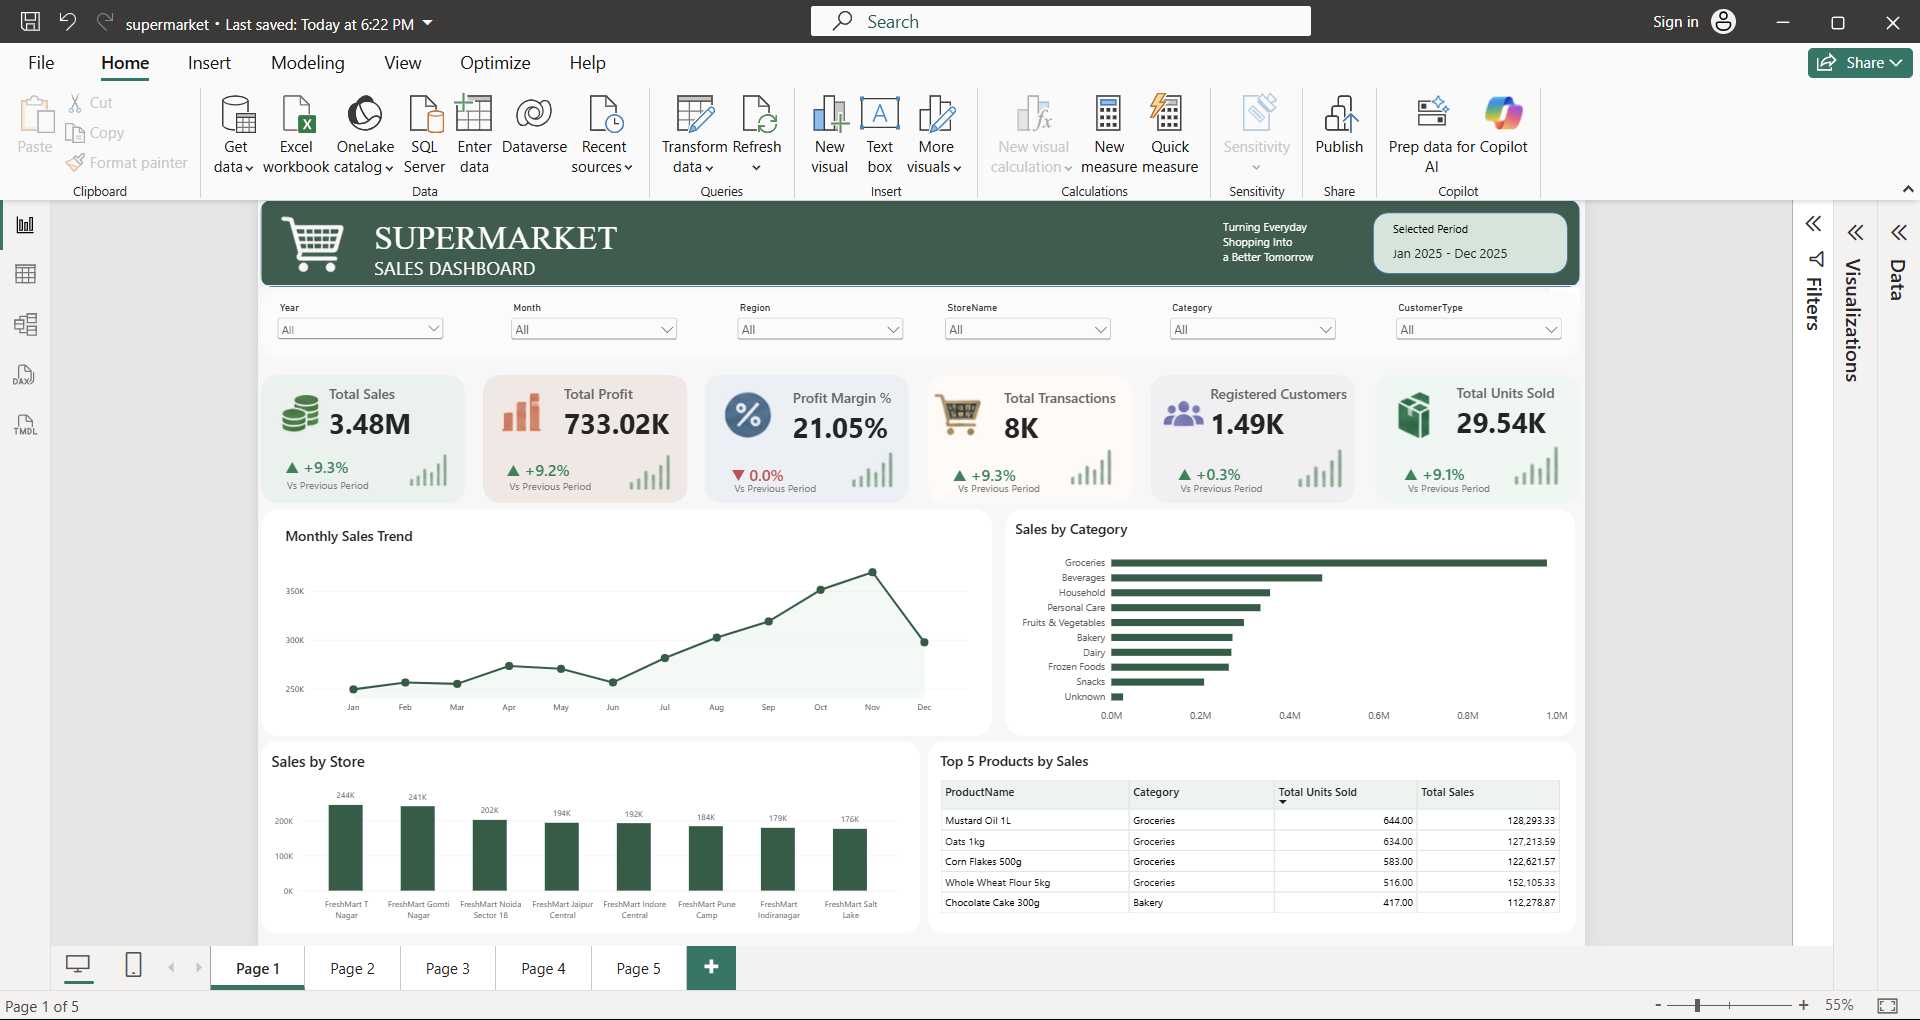

Layout of this report page (visuals, bound fields, positions):
{"tool":"powerbi","page":{"name":"Page 1","canvas":[1920,1080],"ordinal":0},"visuals":[{"type":"shape","box":[4.1,0,1910.1,125.6],"z":0},{"type":"image","box":[22.6,2.1,111.1,125.6],"z":1000},{"type":"textbox","box":[168.8,26.8,885.1,146.1],"z":2000},{"type":"textbox","box":[168.8,80.3,1745.5,92.6],"z":3000},{"type":"textbox","box":[1397.6,26.8,516.6,74.1],"z":4000},{"type":"shape","box":[1613.7,18.5,282,88.5],"z":5000},{"type":"textbox","box":[1642.5,31,271.7,166.7],"z":6000},{"type":"textbox","box":[1642.5,63.8,271.7,37],"z":7000},{"type":"shape","box":[4.1,133,1910.1,94.7],"z":8000},{"type":"slicer","fields":{"Values":["DateTable.Year"]},"box":[22.6,146.1,250,82.3],"z":9000},{"type":"slicer","fields":{"Values":["DateTable.Month"]},"box":[362.3,146.1,250,82.3],"z":10000},{"type":"slicer","fields":{"Values":["stores.Region"]},"box":[689.5,146.1,250,82],"z":11000},{"type":"slicer","fields":{"Values":["stores.StoreName"]},"box":[990.1,146.1,250,82],"z":12000},{"type":"slicer","fields":{"Values":["vw_products_clean.Category"]},"box":[1315.3,146.1,250,82],"z":13000},{"type":"slicer","fields":{"Values":["vw_customers_clean.CustomerType"]},"box":[1642.5,146.1,249.1,61.7],"z":14000},{"type":"shape","box":[4.1,253.2,296.4,185.2],"z":15000},{"type":"shape","box":[326,253.2,296.4,185.2],"z":16000},{"type":"shape","box":[646,253.2,296.4,185.2],"z":17000},{"type":"shape","box":[1292.6,253.2,296.4,185.2],"z":18000},{"type":"shape","box":[970,253.2,296.4,185.2],"z":19000},{"type":"shape","box":[1618,253.2,296,185.2],"z":20000},{"type":"cardVisual","fields":{"Data":["All_Measures.Total Sales"]},"box":[86.4,228.5,201.7,162.6],"z":21000},{"type":"image","box":[0,273.8,123.5,72],"z":22000},{"type":"image","box":[168.8,358.1,156.4,65.9],"z":23000},{"type":"cardVisual","fields":{"Data":["All_Measures.Total Sales Growth Label"]},"box":[22.6,335.5,164.7,102.9],"z":24000},{"type":"textbox","box":[41,401,164.7,79],"z":25000},{"type":"cardVisual","fields":{"Data":["All_Measures.Total Profit"]},"box":[427,228.5,201.7,162.6],"z":26000},{"type":"image","box":[321.1,273.8,123,72],"z":27000},{"type":"image","box":[526.9,358.1,82.3,72],"z":28000},{"type":"cardVisual","fields":{"Data":["All_Measures.Profit Growth Label"]},"box":[343.7,374.6,162.6,32.9],"z":29000},{"type":"textbox","box":[364,404,144.1,30.9],"z":30000},{"type":"cardVisual","fields":{"Data":["All_Measures.Profit Margin %"]},"box":[757.5,232.6,201.7,162.6],"z":31000},{"type":"image","box":[627.8,269.6,164,82],"z":32000},{"type":"cardVisual","fields":{"Data":["All_Measures.Profit Margin Change Label"]},"box":[669,358.1,146.1,76.2],"z":33000},{"type":"textbox","box":[689.5,407.5,144.1,22.6],"z":34000},{"type":"image","box":[848,354,82.3,72],"z":35000},{"type":"cardVisual","fields":{"Data":["All_Measures.Total Transactions"]},"box":[1064.2,232.6,201.7,162.6],"z":36000},{"type":"image","box":[930.4,269.6,164,82],"z":37000},{"type":"image","box":[1165,352,82.3,72],"z":38000},{"type":"cardVisual","fields":{"Data":["All_Measures.Transactions Growth Label"]},"box":[990.1,358.1,146,76],"z":39000},{"type":"textbox","box":[1012.7,407.5,137.9,30.9],"z":40000},{"type":"cardVisual","fields":{"Data":["All_Measures.Registered Customers"]},"box":[1362,228.5,269.6,162.6],"z":41000},{"type":"image","box":[1265.9,273.8,146.1,72],"z":42000},{"type":"image","box":[1496.4,349.9,82.3,78.2],"z":43000},{"type":"cardVisual","fields":{"Data":["All_Measures.Customer Growth Label"]},"box":[1315.3,321.1,165,150],"z":44000},{"type":"textbox","box":[1335,407.5,224.4,22.6],"z":45000},{"type":"cardVisual","fields":{"Data":["All_Measures.Previous Month Units Sold"]},"box":[1718.7,226.4,175,162.6],"z":46000},{"type":"image","box":[1591.1,269.6,164.7,82],"z":47000},{"type":"image","box":[1809.3,345.8,82.3,78.2],"z":48000},{"type":"cardVisual","fields":{"Data":["All_Measures.Units Growth Label"]},"box":[1642.5,321.1,165,150],"z":49000},{"type":"textbox","box":[1665,407.5,154.4,49.4],"z":50000},{"type":"shape","box":[4.1,446.7,1060,329.3],"z":51000},{"type":"lineChart","title":"Monthly Sales Trend","fields":{"Category":["DateTable.Month"],"Y":["All_Measures.Total Sales"]},"box":[22.6,456.9,1018.9,304.6],"z":52000},{"type":"shape","box":[1082.7,446.7,825.4,329.3],"z":53000},{"type":"barChart","title":"Sales by Category","fields":{"Category":["vw_products_clean.Category"],"Y":["All_Measures.Total Sales"]},"box":[1080.6,446.7,831.6,329.3],"z":54000},{"type":"shape","box":[4.1,784.2,955.1,277.9],"z":55000},{"type":"columnChart","title":"Sales by Store","fields":{"Category":["stores.StoreName"],"Y":["All_Measures.Total Sales"]},"box":[4.1,784.2,938.6,277.9],"z":56000},{"type":"shape","box":[969.5,784.2,938.6,277.9],"z":57000},{"type":"tableEx","title":"Top 5 Products by Sales","fields":{"Values":["vw_products_clean.ProductName","vw_products_clean.Category","All_Measures.Total Units Sold","All_Measures.Total Sales"]},"box":[971.5,784.2,938.6,277.9],"z":58000}]}

Visuals, with their boxes on the page's 1920x1080 design canvas (x1, y1, x2, y2). These are canvas units, not pixel positions in the 1920x1020 screenshot, which may show the page scaled, cropped or inside an application window:
shape: <region>4, 0, 1914, 126</region>
image: <region>23, 2, 134, 128</region>
textbox: <region>169, 27, 1054, 173</region>
textbox: <region>169, 80, 1914, 173</region>
textbox: <region>1398, 27, 1914, 101</region>
shape: <region>1614, 18, 1896, 107</region>
textbox: <region>1642, 31, 1914, 198</region>
textbox: <region>1642, 64, 1914, 101</region>
shape: <region>4, 133, 1914, 228</region>
slicer - DateTable.Year: <region>23, 146, 273, 228</region>
slicer - DateTable.Month: <region>362, 146, 612, 228</region>
slicer - stores.Region: <region>690, 146, 940, 228</region>
slicer - stores.StoreName: <region>990, 146, 1240, 228</region>
slicer - vw_products_clean.Category: <region>1315, 146, 1565, 228</region>
slicer - vw_customers_clean.CustomerType: <region>1642, 146, 1892, 208</region>
shape: <region>4, 253, 300, 438</region>
shape: <region>326, 253, 622, 438</region>
shape: <region>646, 253, 942, 438</region>
shape: <region>1293, 253, 1589, 438</region>
shape: <region>970, 253, 1266, 438</region>
shape: <region>1618, 253, 1914, 438</region>
cardVisual - All_Measures.Total Sales: <region>86, 228, 288, 391</region>
image: <region>0, 274, 124, 346</region>
image: <region>169, 358, 325, 424</region>
cardVisual - All_Measures.Total Sales Growth Label: <region>23, 336, 187, 438</region>
textbox: <region>41, 401, 206, 480</region>
cardVisual - All_Measures.Total Profit: <region>427, 228, 629, 391</region>
image: <region>321, 274, 444, 346</region>
image: <region>527, 358, 609, 430</region>
cardVisual - All_Measures.Profit Growth Label: <region>344, 375, 506, 408</region>
textbox: <region>364, 404, 508, 435</region>
cardVisual - All_Measures.Profit Margin %: <region>758, 233, 959, 395</region>
image: <region>628, 270, 792, 352</region>
cardVisual - All_Measures.Profit Margin Change Label: <region>669, 358, 815, 434</region>
textbox: <region>690, 408, 834, 430</region>
image: <region>848, 354, 930, 426</region>
cardVisual - All_Measures.Total Transactions: <region>1064, 233, 1266, 395</region>
image: <region>930, 270, 1094, 352</region>
image: <region>1165, 352, 1247, 424</region>
cardVisual - All_Measures.Transactions Growth Label: <region>990, 358, 1136, 434</region>
textbox: <region>1013, 408, 1151, 438</region>
cardVisual - All_Measures.Registered Customers: <region>1362, 228, 1632, 391</region>
image: <region>1266, 274, 1412, 346</region>
image: <region>1496, 350, 1579, 428</region>
cardVisual - All_Measures.Customer Growth Label: <region>1315, 321, 1480, 471</region>
textbox: <region>1335, 408, 1559, 430</region>
cardVisual - All_Measures.Previous Month Units Sold: <region>1719, 226, 1894, 389</region>
image: <region>1591, 270, 1756, 352</region>
image: <region>1809, 346, 1892, 424</region>
cardVisual - All_Measures.Units Growth Label: <region>1642, 321, 1808, 471</region>
textbox: <region>1665, 408, 1819, 457</region>
shape: <region>4, 447, 1064, 776</region>
"Monthly Sales Trend" lineChart: <region>23, 457, 1042, 762</region>
shape: <region>1083, 447, 1908, 776</region>
"Sales by Category" barChart: <region>1081, 447, 1912, 776</region>
shape: <region>4, 784, 959, 1062</region>
"Sales by Store" columnChart: <region>4, 784, 943, 1062</region>
shape: <region>970, 784, 1908, 1062</region>
"Top 5 Products by Sales" tableEx: <region>972, 784, 1910, 1062</region>
